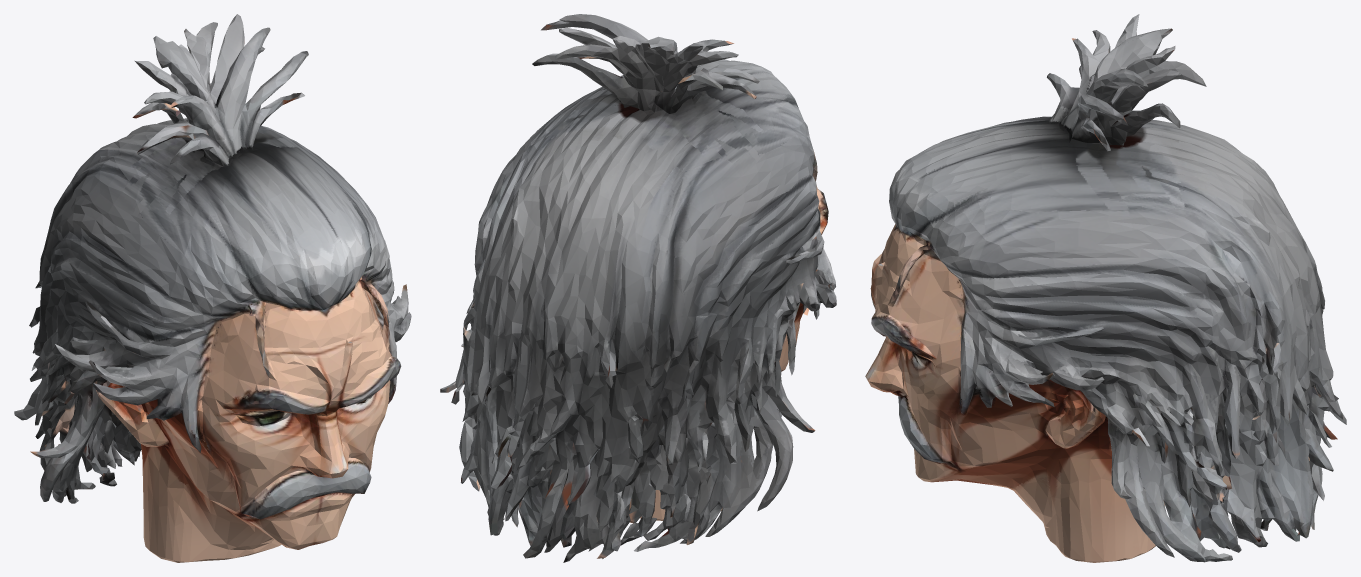
The model's file is side_masanori_repaired_atlas.glb.
The picture shows the model from 3 angles, left to right: view 1: azimuth 30°, elevation 25°; view 2: azimuth 150°, elevation 25°; view 3: azimuth 270°, elevation 25°; orthographic projection.
Parts seen in each view (by area): view 1: temp_mesh.ply; view 2: temp_mesh.ply; view 3: temp_mesh.ply.
Part boxes in pixels (x1,y1,x2,y2): temp_mesh.ply: (14,14,411,562); temp_mesh.ply: (440,14,836,562); temp_mesh.ply: (865,14,1346,562).
Bounding box in the file's own units: 1.1 × 1.43 × 1.29.
1 material, 1 textured.
